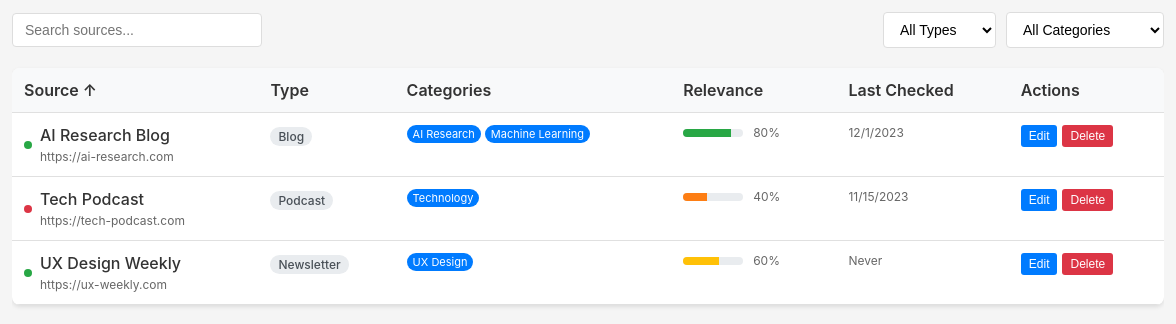
it: SourceList › toggles sort order when clicking same header
The image size is (1176, 324).
# First click - ascending
Click the column heading "Relevance" at (754, 90), box [671,68,836,112]
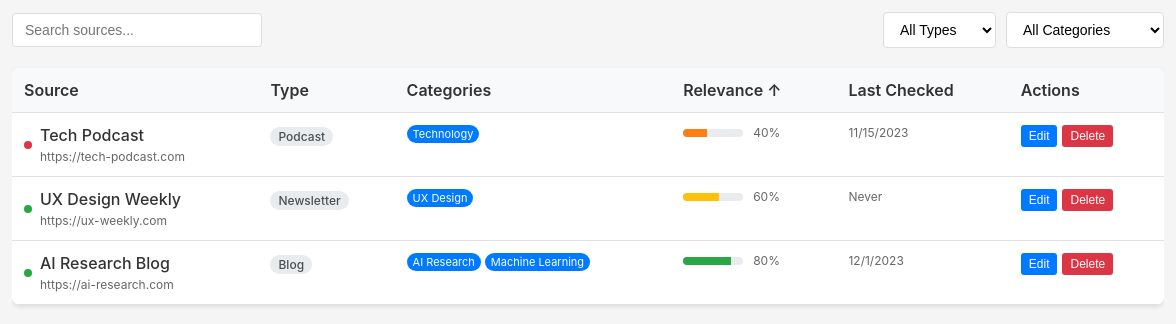
Expected: the column heading "Relevance ↑" is shown
# Second click - descending
Click the column heading "Relevance ↑" at (754, 90), box [671,68,836,112]
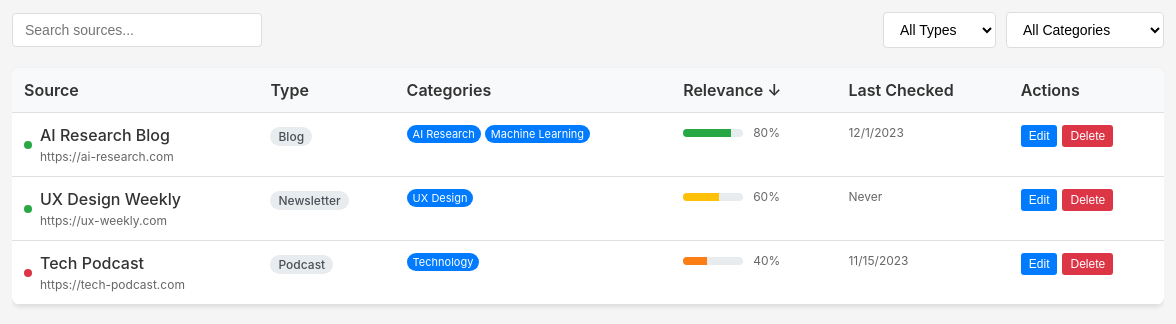
Expected: the column heading "Relevance ↓" is shown, [671,68,836,112]
